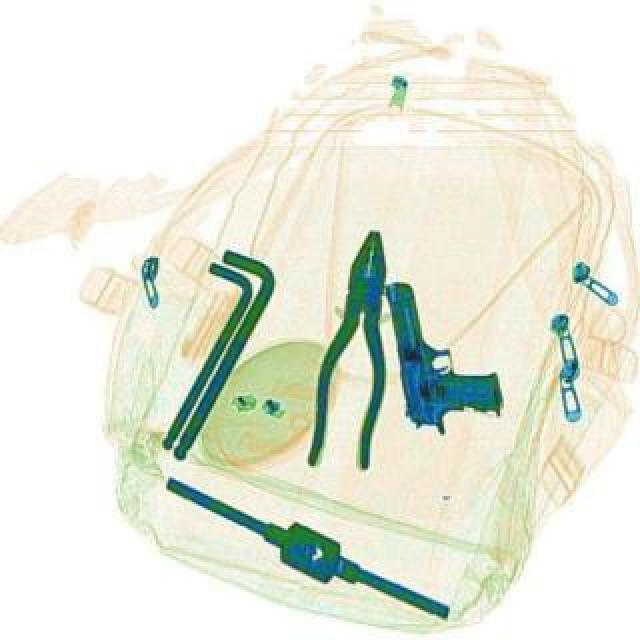gun: (382, 272, 506, 442)
wrench: (304, 228, 404, 476)
